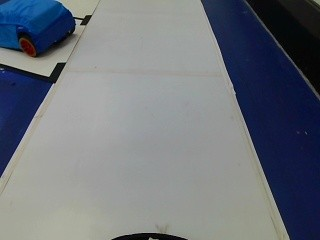car: (0, 0, 76, 57)
